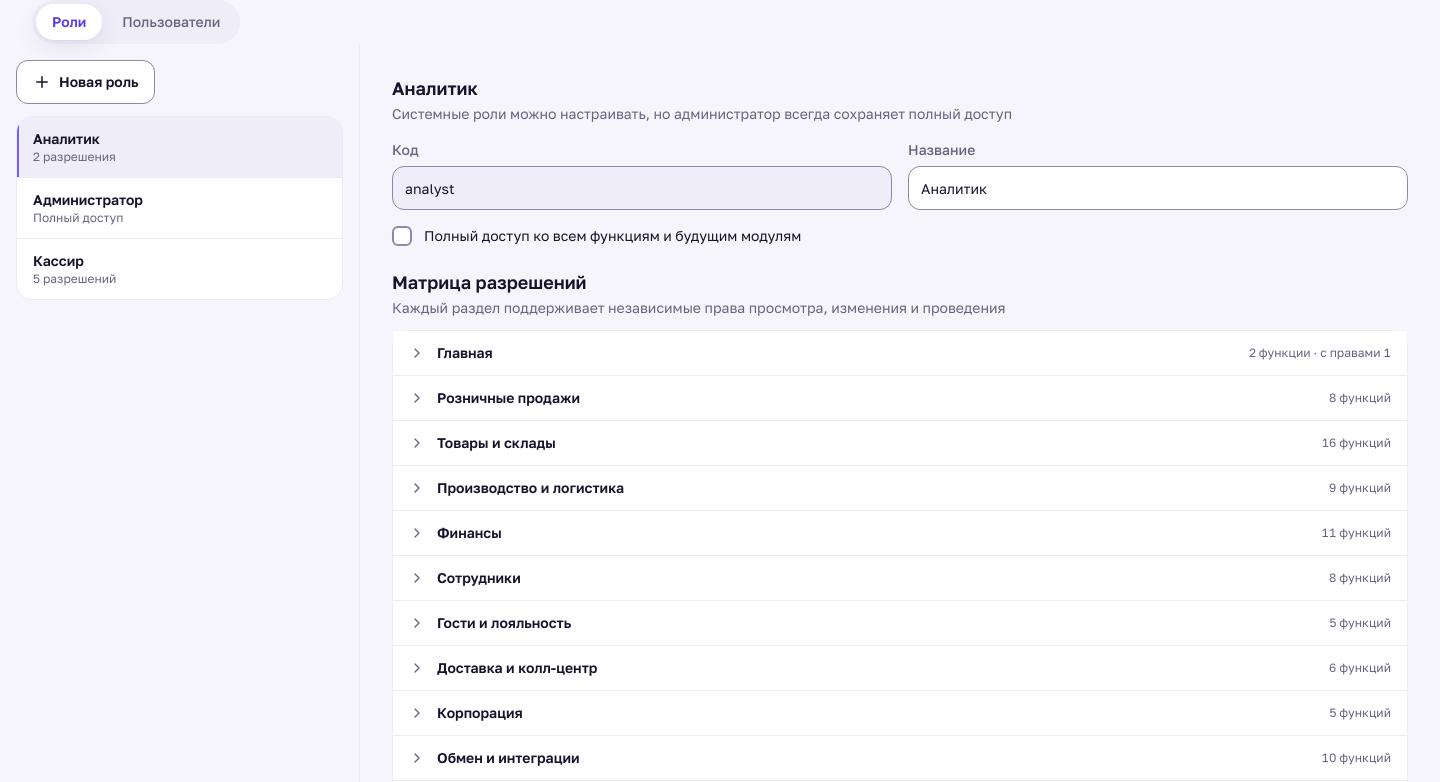
Test case: «Роли и права» (W1-ACL-05) › keeps the code of an existing role read-only and the administrator on full access
The width and height of the screenshot is (1440, 782).
Step 1. Click the button "Администратор Полный доступ" → (88, 200), box [17,178,342,238]
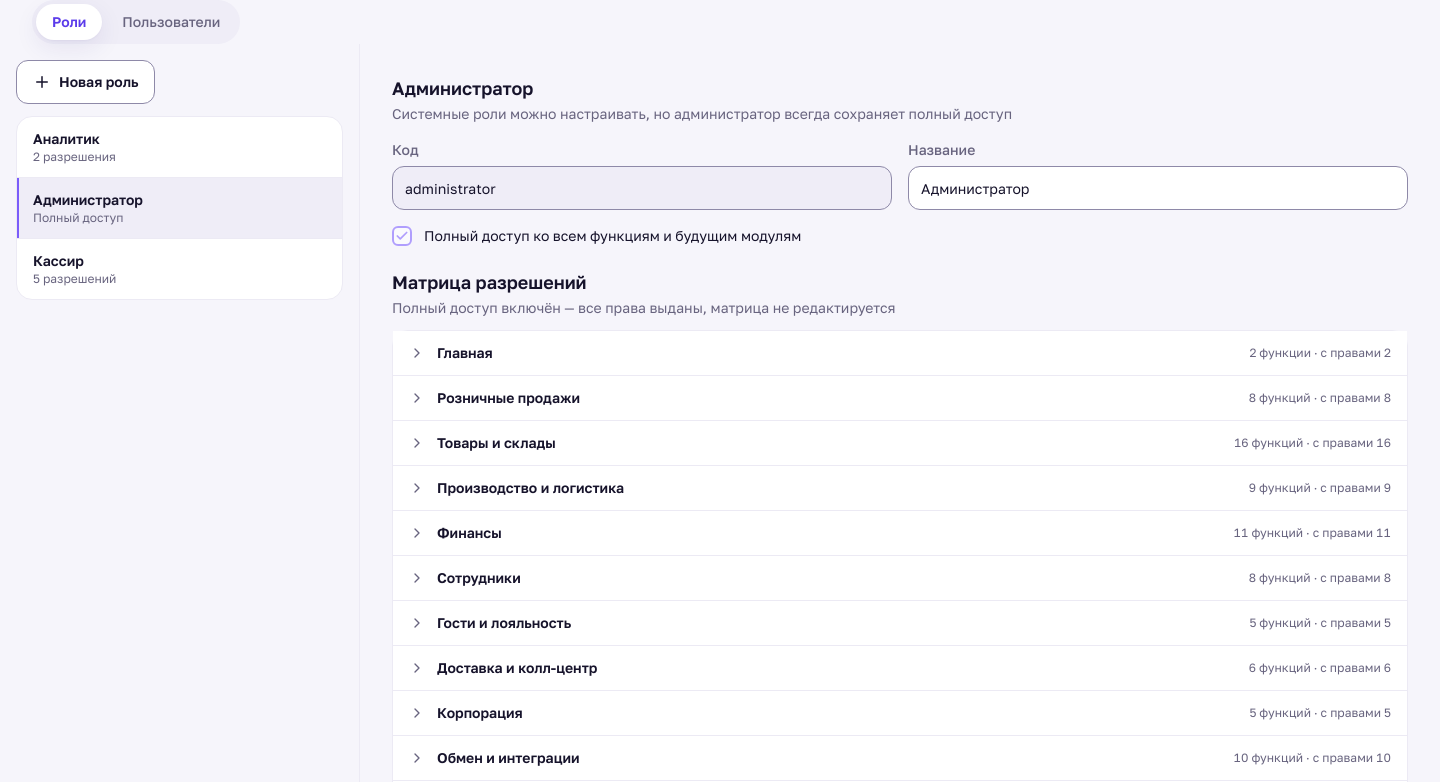
Result: the checkbox named "Полный доступ ко всем функциям и будущим модулям" is disabled at [392,226,412,246]
